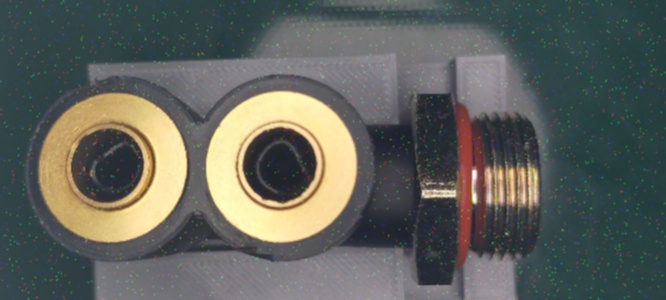bump: (231, 243, 283, 263), (71, 75, 117, 92)
joint line: (377, 179, 416, 187)
off-centered: (80, 139, 144, 199), (249, 141, 312, 193)
white mark: (386, 161, 407, 177)
